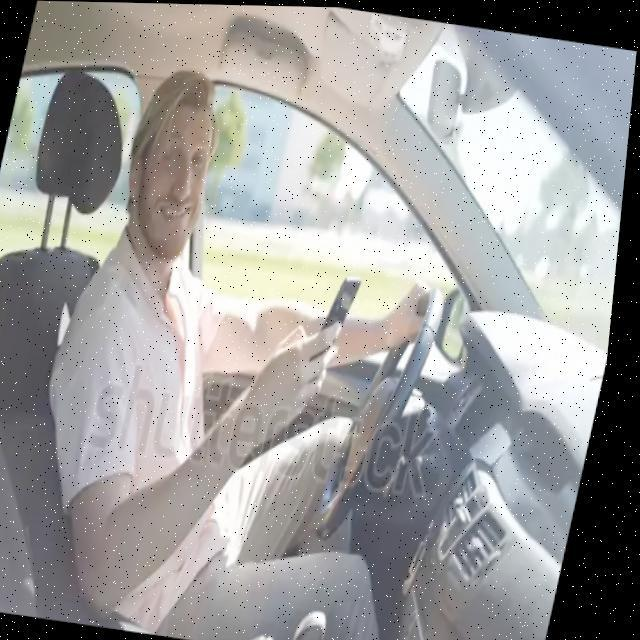PhoneCall: (318, 272, 368, 366)
